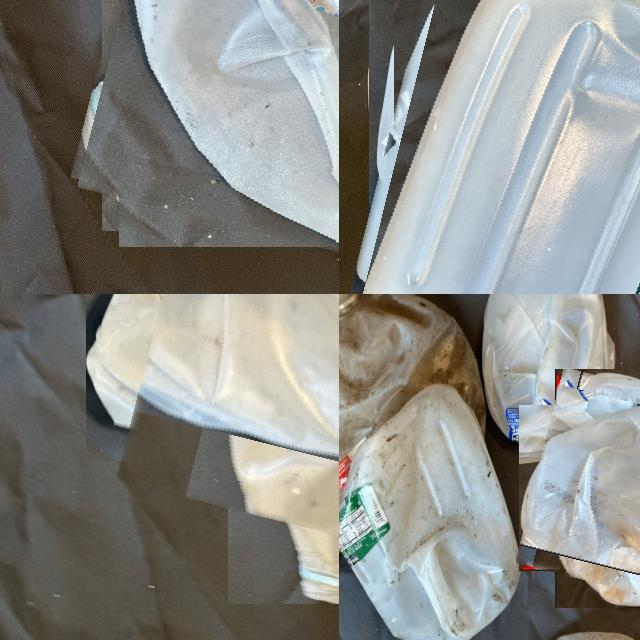milk-jug: (360, 0, 640, 294), (89, 0, 339, 260), (136, 294, 339, 553), (339, 382, 514, 638), (339, 294, 487, 469), (527, 377, 640, 598), (489, 294, 621, 465)
